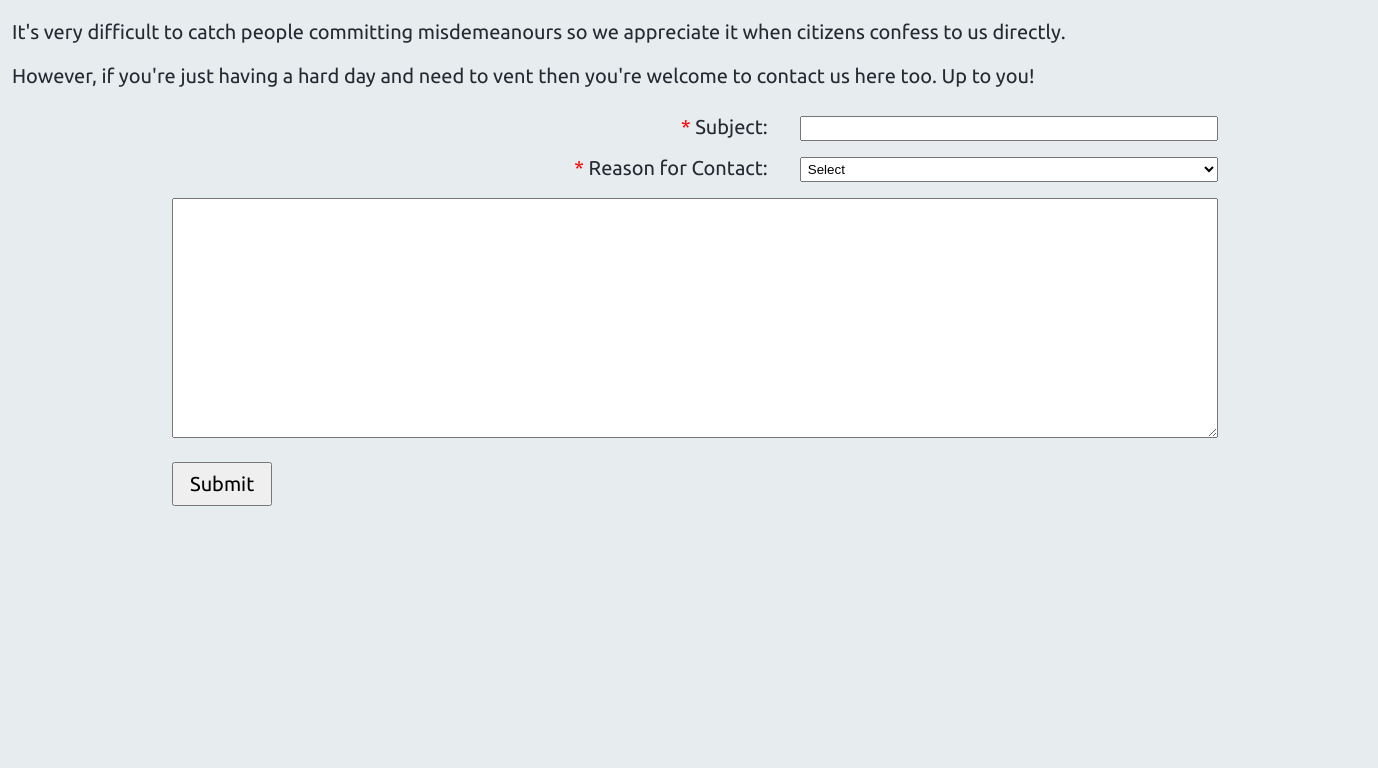
Scenario: <Confession> › Given all data is valid but server is not responding,         When submit button is pressed,         then an error message should be shown
Type "Pottery inquiry" into the field labelled "Subject:" at (1009, 128), box left=800, top=116, right=1218, bottom=141
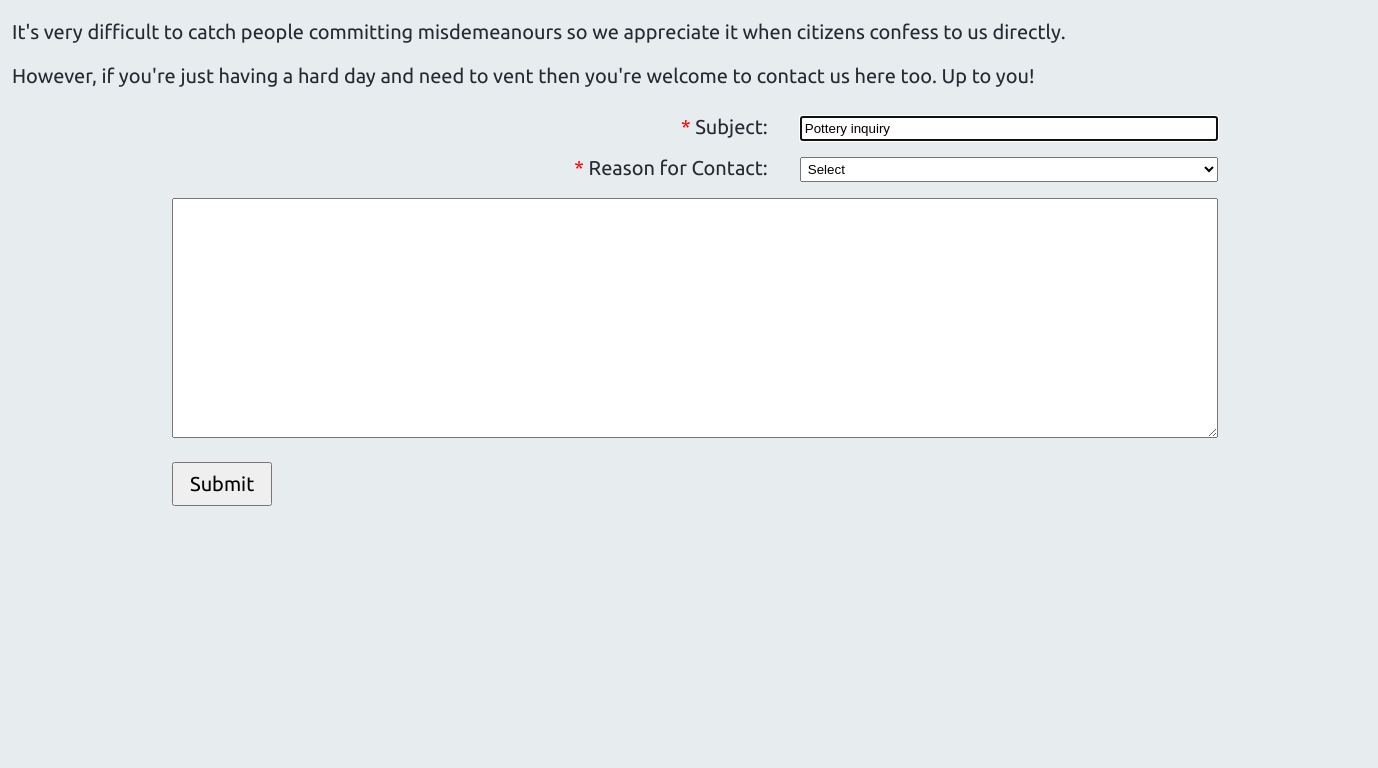
Select "I just want to talk" in the dropdown labelled "Reason for Contact:" at (1009, 170), box left=800, top=157, right=1218, bottom=182
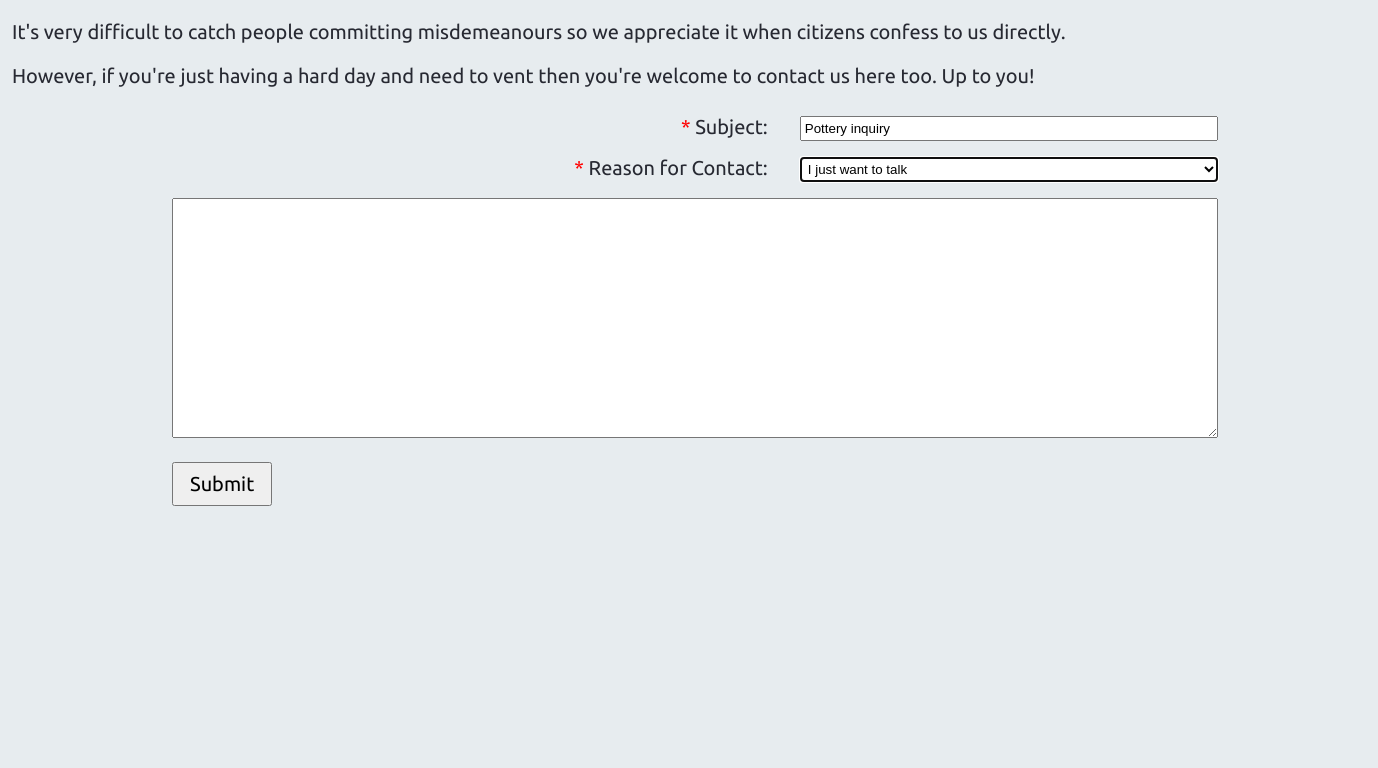
Type "Did you see this week's Pottery Throwdown?" into the text box named "confession detail" at (695, 318), box left=172, top=198, right=1218, bottom=438
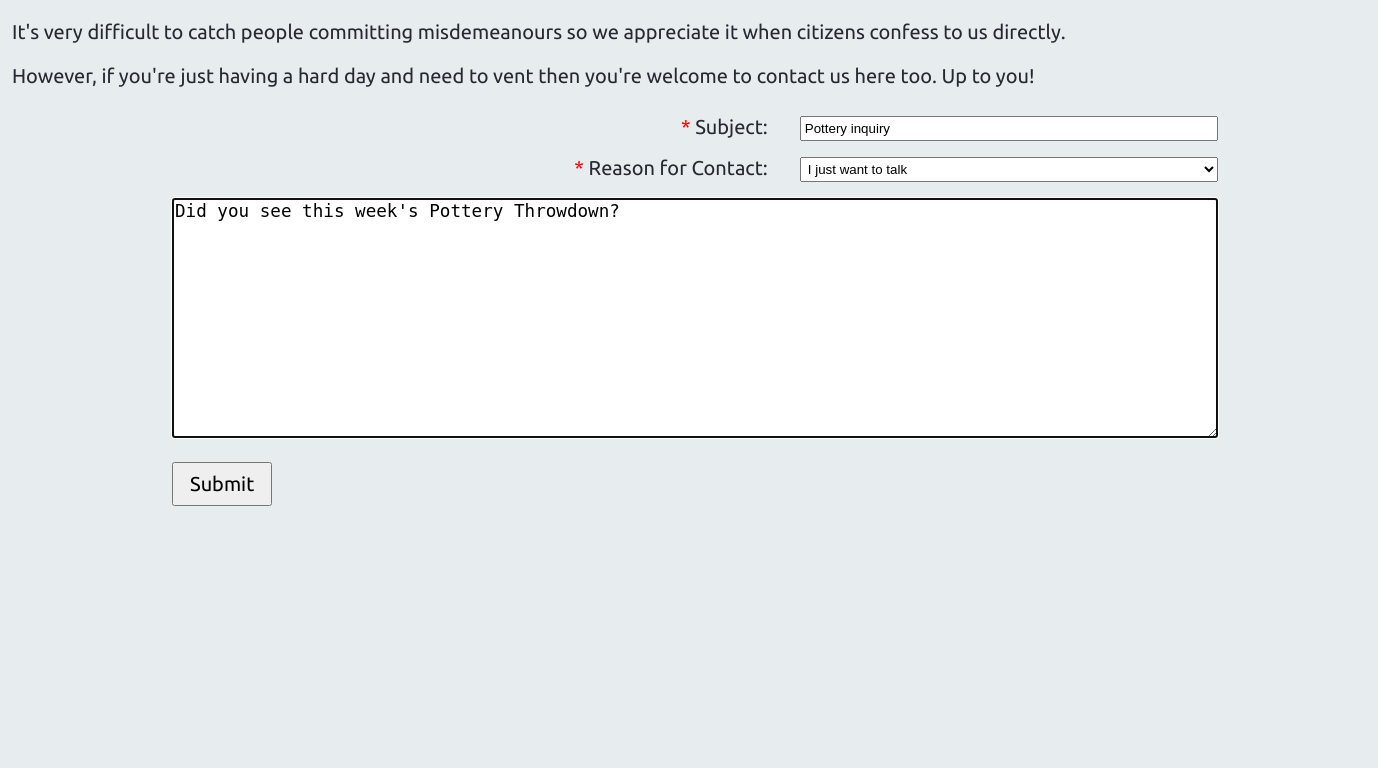
Click the button labelled "Submit" at (222, 484), box left=172, top=462, right=272, bottom=506
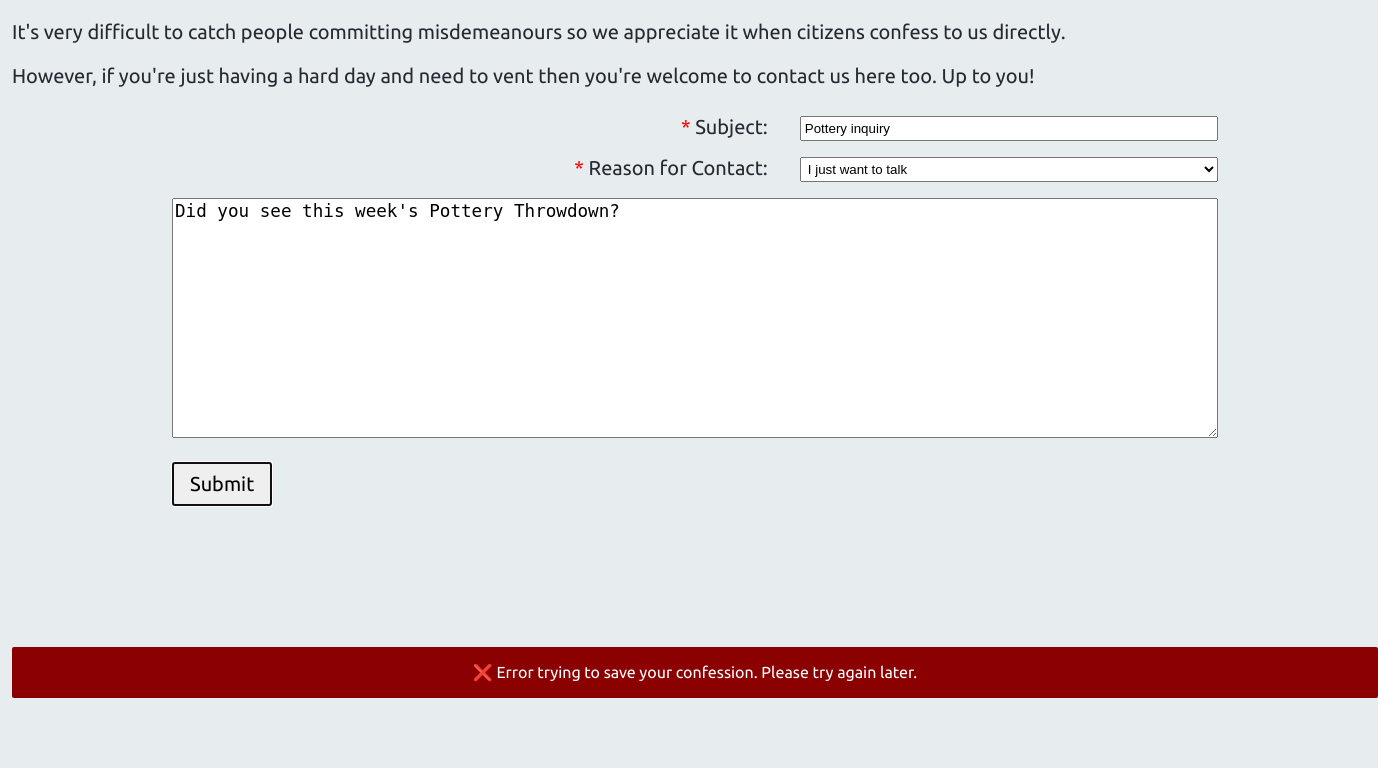
expect the text "Error trying to save your confession. Please try again later" is shown: met, box left=473, top=663, right=917, bottom=681
